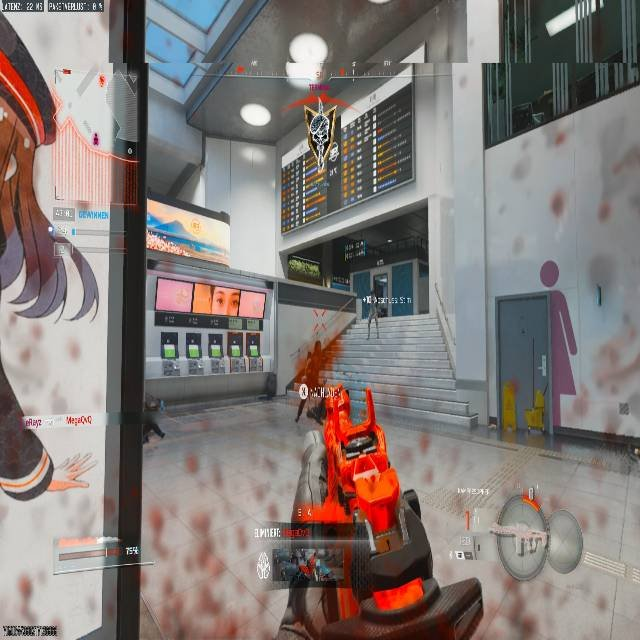head: (546, 511, 585, 572)
player: (469, 490, 636, 638), (366, 281, 388, 325)
